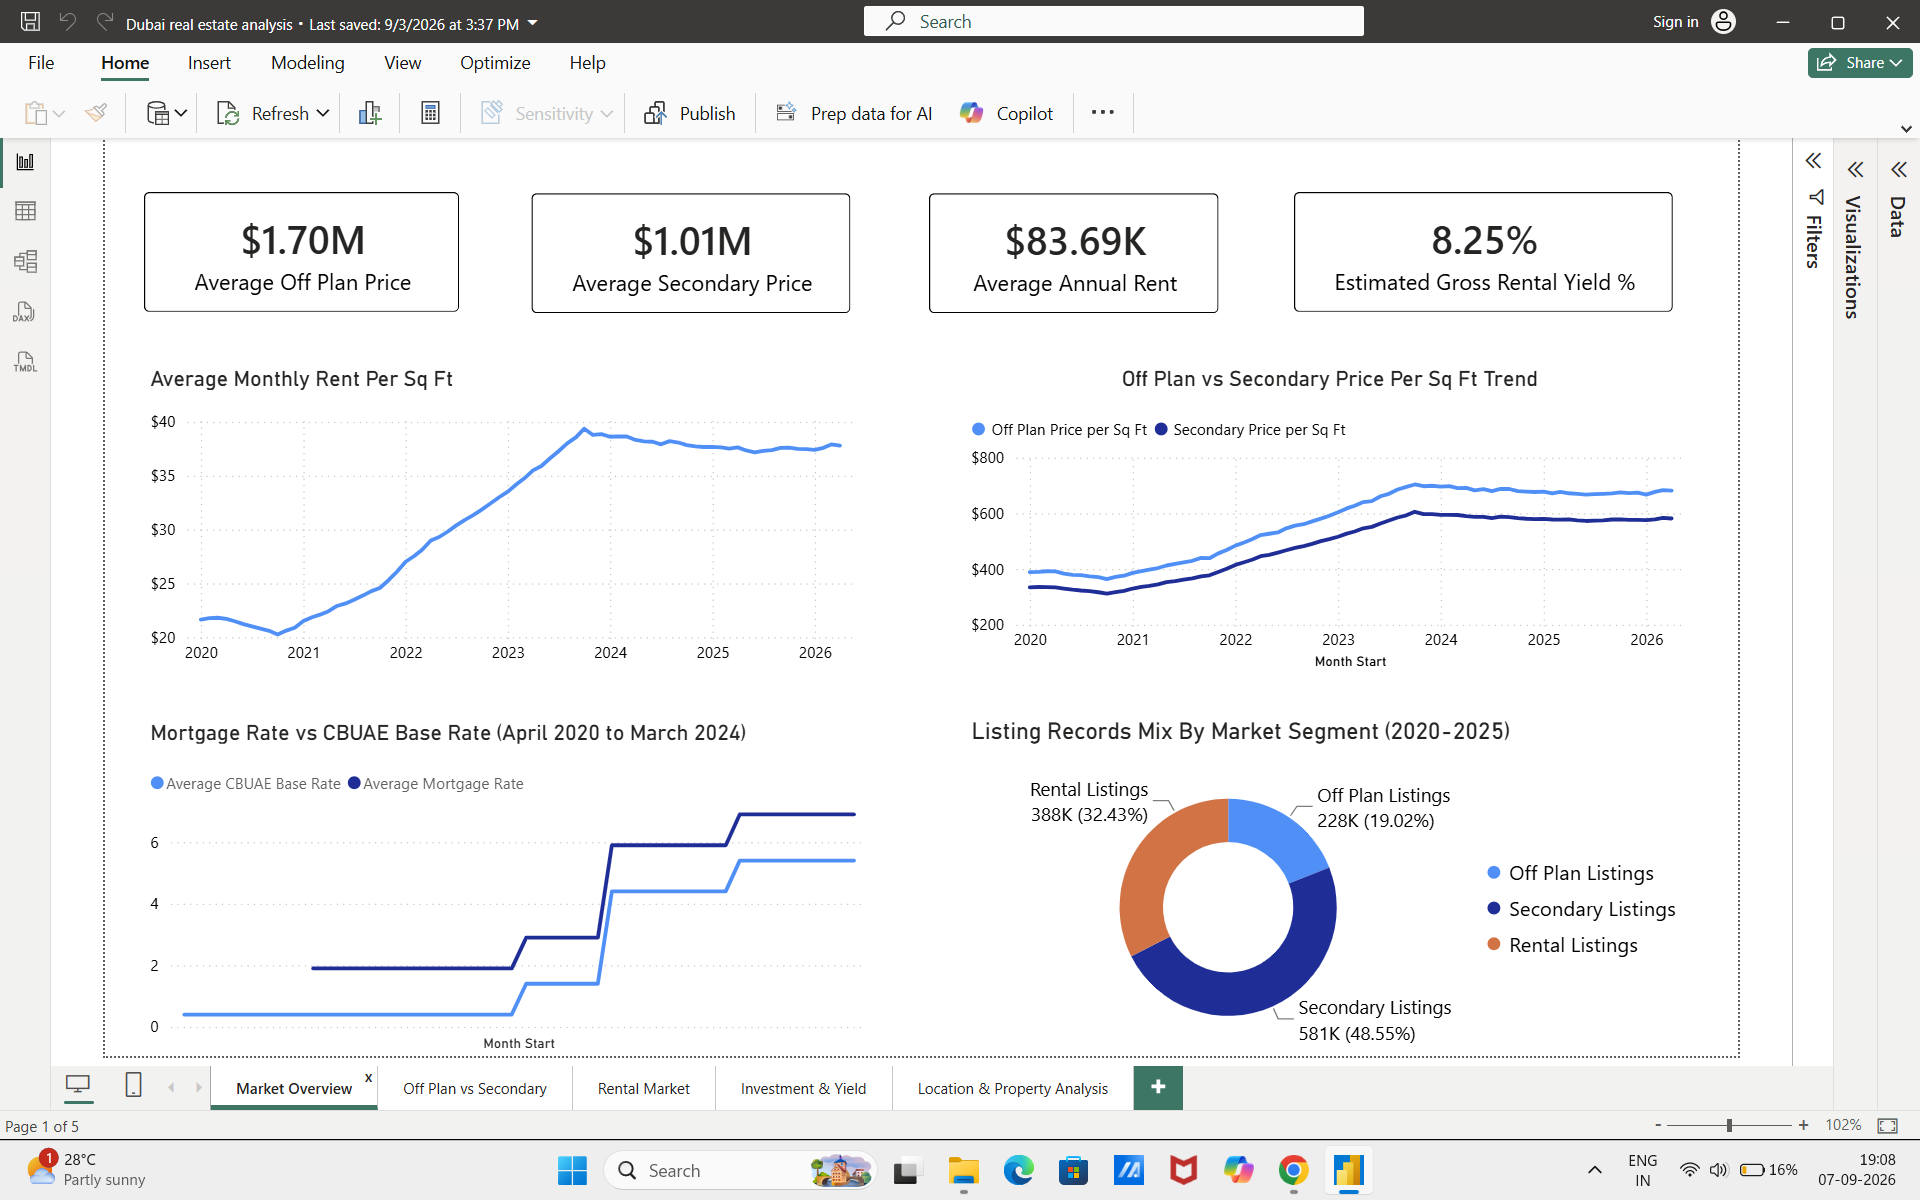

What the dashboard file says about the page in this screenshot:
{"tool":"powerbi","page":{"name":"Market Overview","canvas":[1280,720],"ordinal":0},"visuals":[{"type":"cardVisual","fields":{"Data":["Off Plan.Average Secondary Price"]},"box":[317.5,26.3,284.9,128.3],"z":0},{"type":"cardVisual","fields":{"Data":["Off Plan.Average Off Plan Price"]},"box":[13.7,25.2,281.8,128.3],"z":1000},{"type":"cardVisual","fields":{"Data":["Off Plan.Average Annual Rent"]},"box":[628.7,26.3,261.8,128.3],"z":2000},{"type":"cardVisual","fields":{"Data":["Off Plan.Estimated Gross Rental Yield %"]},"box":[914.7,25.2,331.2,128.3],"z":3000},{"type":"lineChart","title":"Average Monthly Rent Per Sq Ft","fields":{"Y":["Off Plan.Average Monthly Rent per Sq Ft"],"Category":["Dim Date.Month Start"]},"box":[30.2,177.9,564,243],"z":4000},{"type":"lineChart","title":"Off Plan vs Secondary Price Per Sq Ft Trend","fields":{"Y":["Off Plan.Average Monthly Off Plan Price per Sq Ft","Off Plan.Average Monthly Secondary Price per Sq Ft"],"Category":["Dim Date.Month Start"]},"box":[674.4,177.9,572.1,243],"z":5000},{"type":"donutChart","title":"Listing Records Mix By Market Segment (2020-2025)","fields":{"Y":["Off Plan.Monthly Off Plan Listings","Off Plan.Monthly Secondary Listings","Off Plan.Monthly Rental Listings"]},"box":[674,454.2,572,265],"z":6000},{"type":"lineChart","title":"Mortgage Rate vs CBUAE  Base Rate   (April 2020 to March 2024)","fields":{"Y":["Off Plan.Average CBUAE Base Rate","Off Plan.Average Mortgage Rate"],"Category":["Dim Date.Month Start"]},"box":[30.5,455.3,572,265],"z":7000}]}

Visuals, with their boxes on the page's 1280x720 design canvas (x1, y1, x2, y2). These are canvas units, not pixel positions in the 1920x1200 screenshot, which may show the page scaled, cropped or inside an application window:
cardVisual - Off Plan.Average Secondary Price: box=[318, 26, 602, 155]
cardVisual - Off Plan.Average Off Plan Price: box=[14, 25, 296, 154]
cardVisual - Off Plan.Average Annual Rent: box=[629, 26, 890, 155]
cardVisual - Off Plan.Estimated Gross Rental Yield %: box=[915, 25, 1246, 154]
"Average Monthly Rent Per Sq Ft" lineChart: box=[30, 178, 594, 421]
"Off Plan vs Secondary Price Per Sq Ft Trend" lineChart: box=[674, 178, 1246, 421]
"Listing Records Mix By Market Segment (2020-2025)" donutChart: box=[674, 454, 1246, 719]
"Mortgage Rate vs CBUAE  Base Rate   (April 2020 to March 2024)" lineChart: box=[30, 455, 602, 720]
